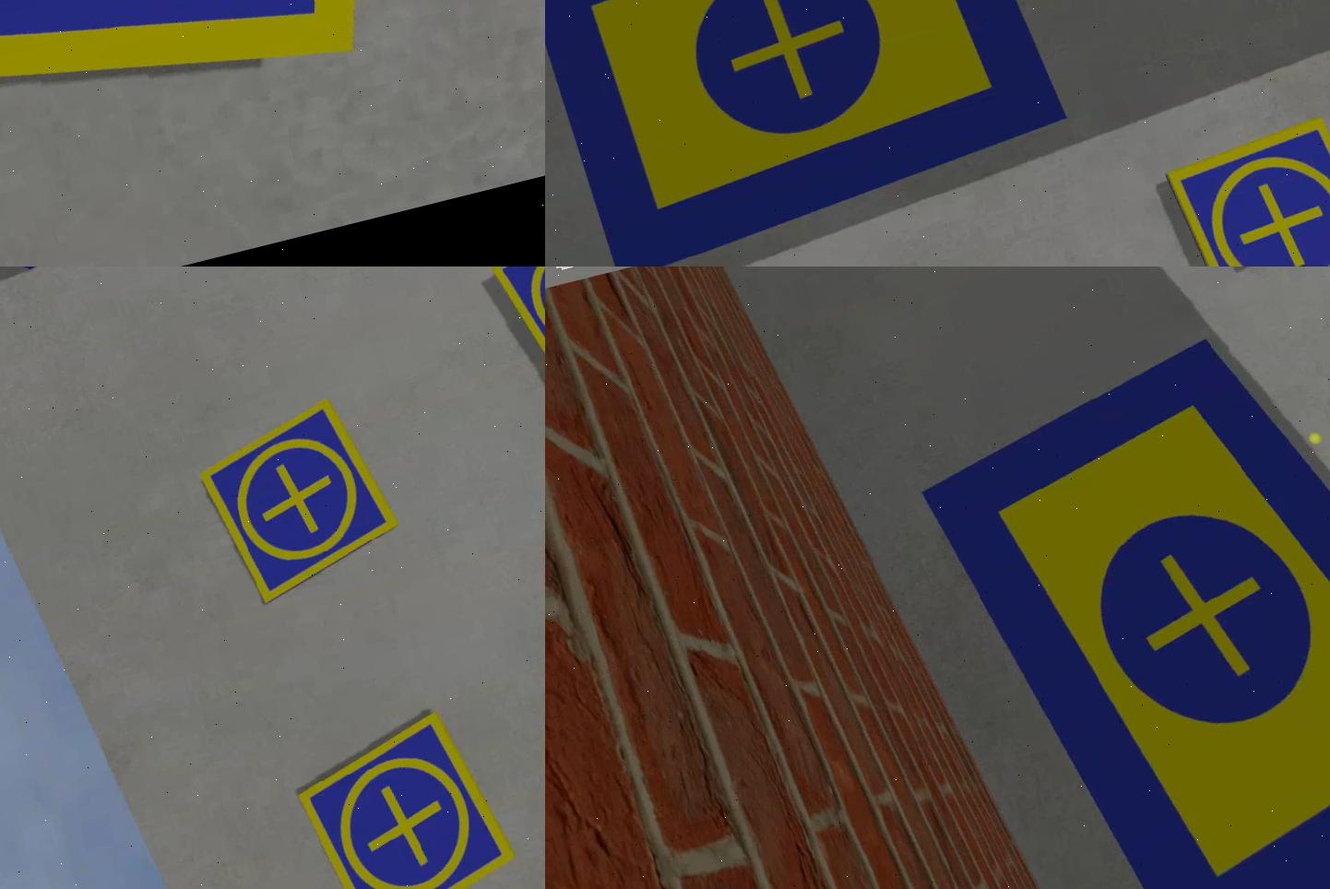large_base: (900, 282, 1330, 889), (546, 1, 1080, 267)
small_base: (1, 1, 539, 238), (193, 393, 410, 613), (290, 702, 528, 889), (1161, 108, 1330, 267)
